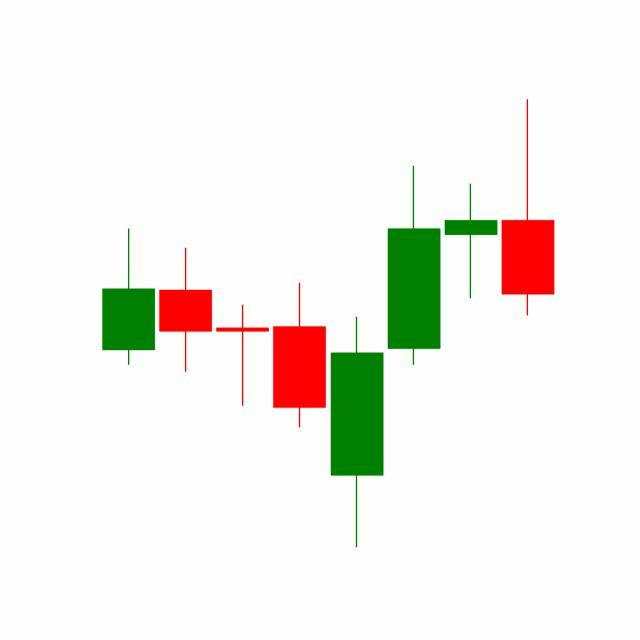Advance Block: (328, 161, 500, 548)
